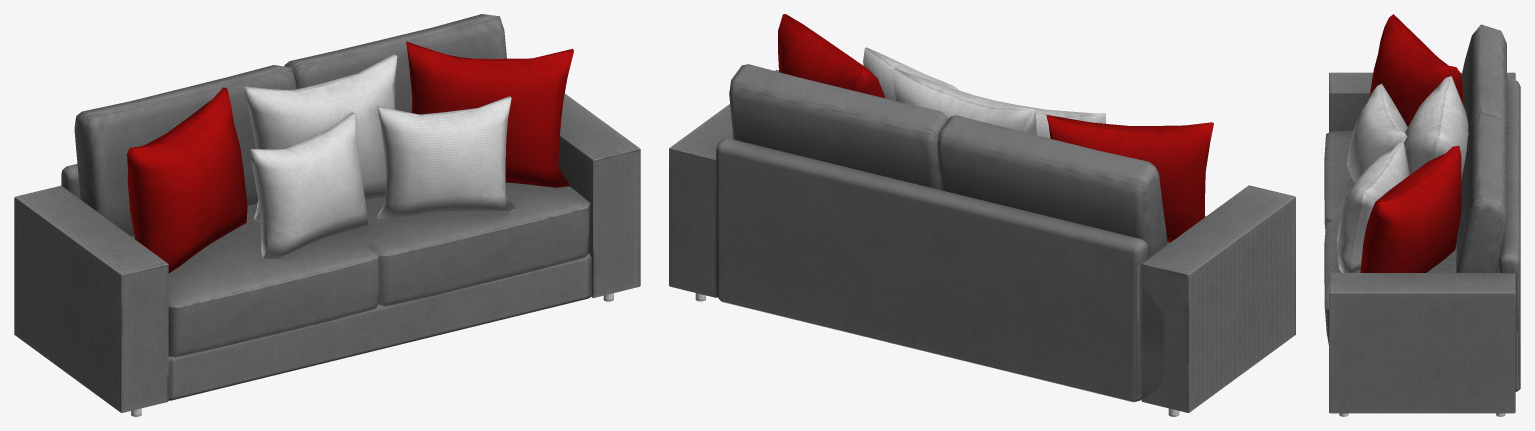
File: Sofa.fbx
The picture shows the model from 3 angles, left to right: view 1: azimuth 30°, elevation 25°; view 2: azimuth 150°, elevation 25°; view 3: azimuth 270°, elevation 25°; orthographic projection. The views are drawn at different scales.
Visible parts, largest first — view 1: Sofa_02; view 2: Sofa_02; view 3: Sofa_02.
Boxes of the visible parts, x1,y1,x2,y2 form: Sofa_02: [14, 14, 640, 416]; Sofa_02: [669, 14, 1295, 416]; Sofa_02: [1324, 14, 1520, 416].
Bounding box in the file's own units: 23.68 × 10.6 × 8.9.
1 material, 1 textured.
